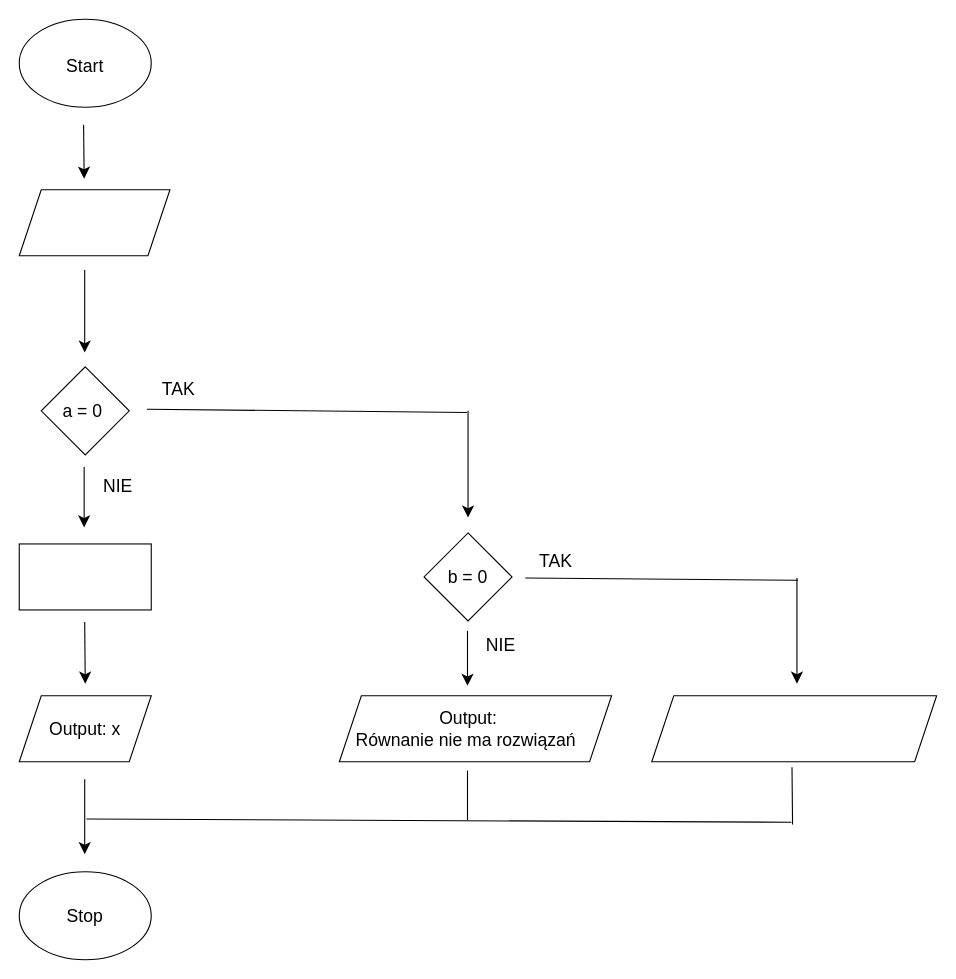
This 956x979 diagram has some shape labels left out. Each missing label, with the centre of its shape:
"Input: a, b" goes at pixel 94 222.
"Output: Równanie ma nieskończenie wiele rozwiązań" goes at pixel 794 728.
"x = -b / a" goes at pixel 84 576.
